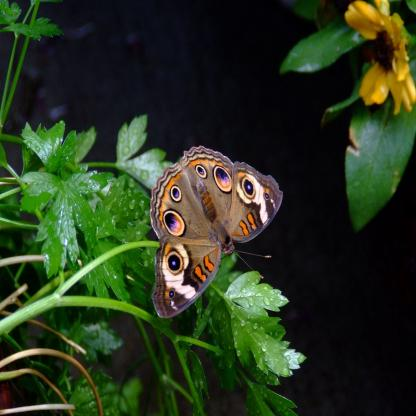Common Buckeye: (135, 135, 296, 331)
